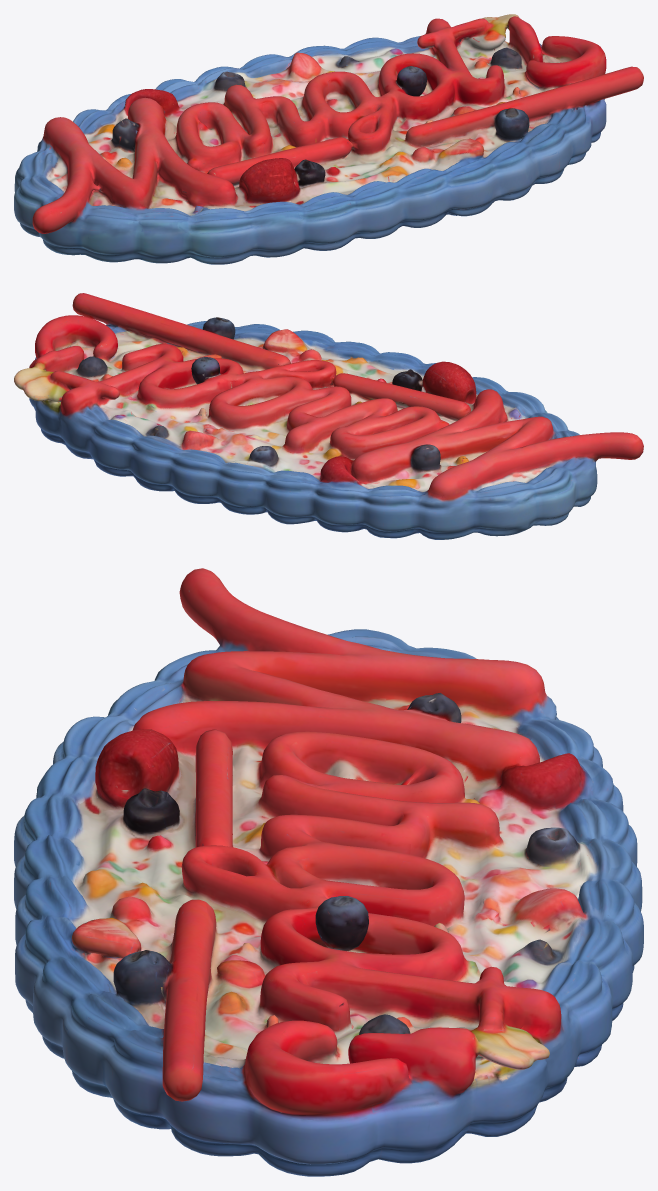
The model's file is Plato_01.glb.
3 views of the same model, one above another, from view 1: azimuth 30°, elevation 25°; view 2: azimuth 150°, elevation 25°; view 3: azimuth 270°, elevation 25° (orthographic). The views are drawn at different scales.
Visible parts, largest first — view 1: Logo LoRes Bake; view 2: Logo LoRes Bake; view 3: Logo LoRes Bake.
Boxes of the visible parts, <box> form: Logo LoRes Bake: <box>14,14,643,264</box>; Logo LoRes Bake: <box>14,293,643,539</box>; Logo LoRes Bake: <box>14,568,643,1176</box>.
Size of the model in its own units: 0.9578 by 0.1187 by 0.4975.
2 materials, 2 textured.
